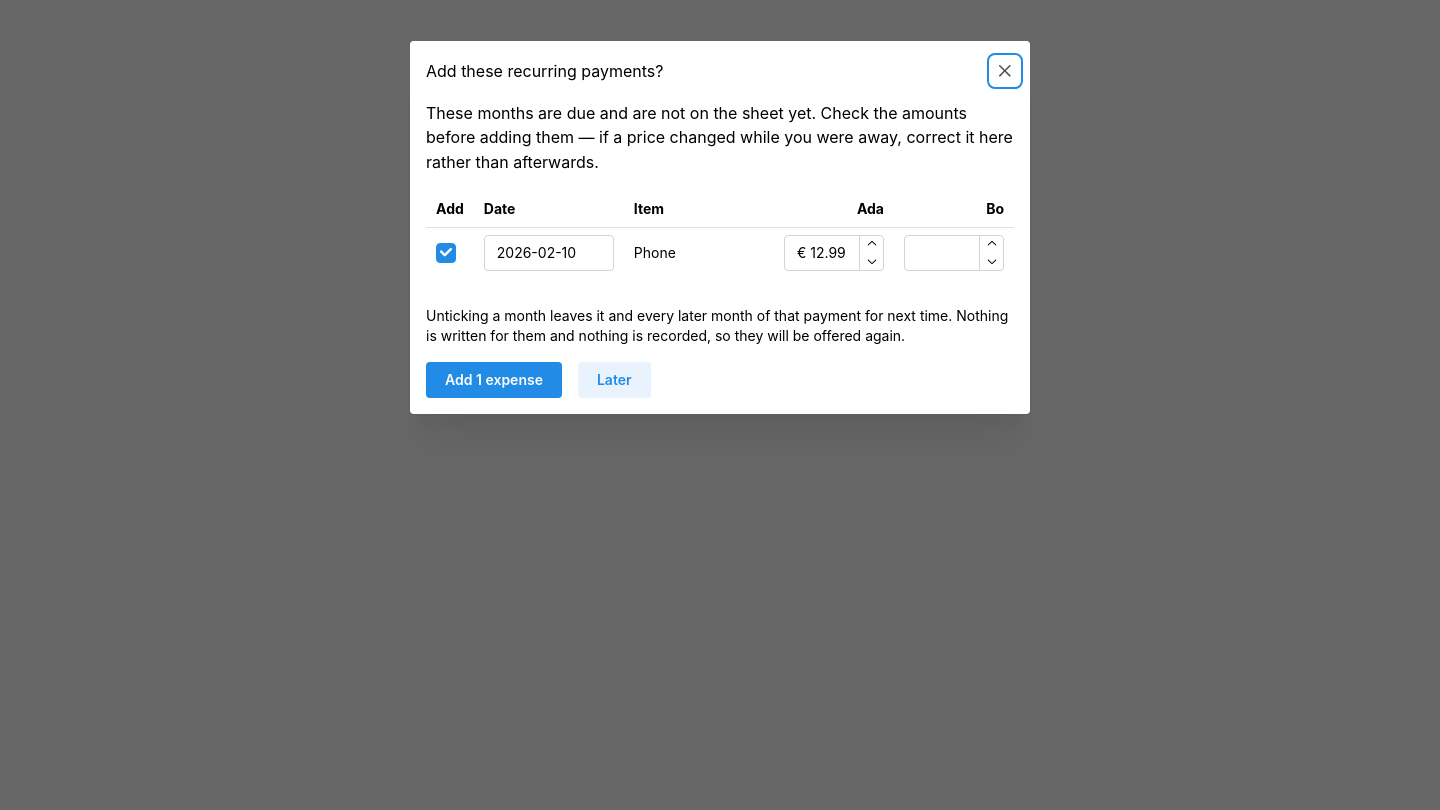
Test: RecurringPrompt › shows a failed write rather than closing as though it had worked
Click the button "Add 1 expense".
click(494, 380)  # box [426, 362, 562, 398]
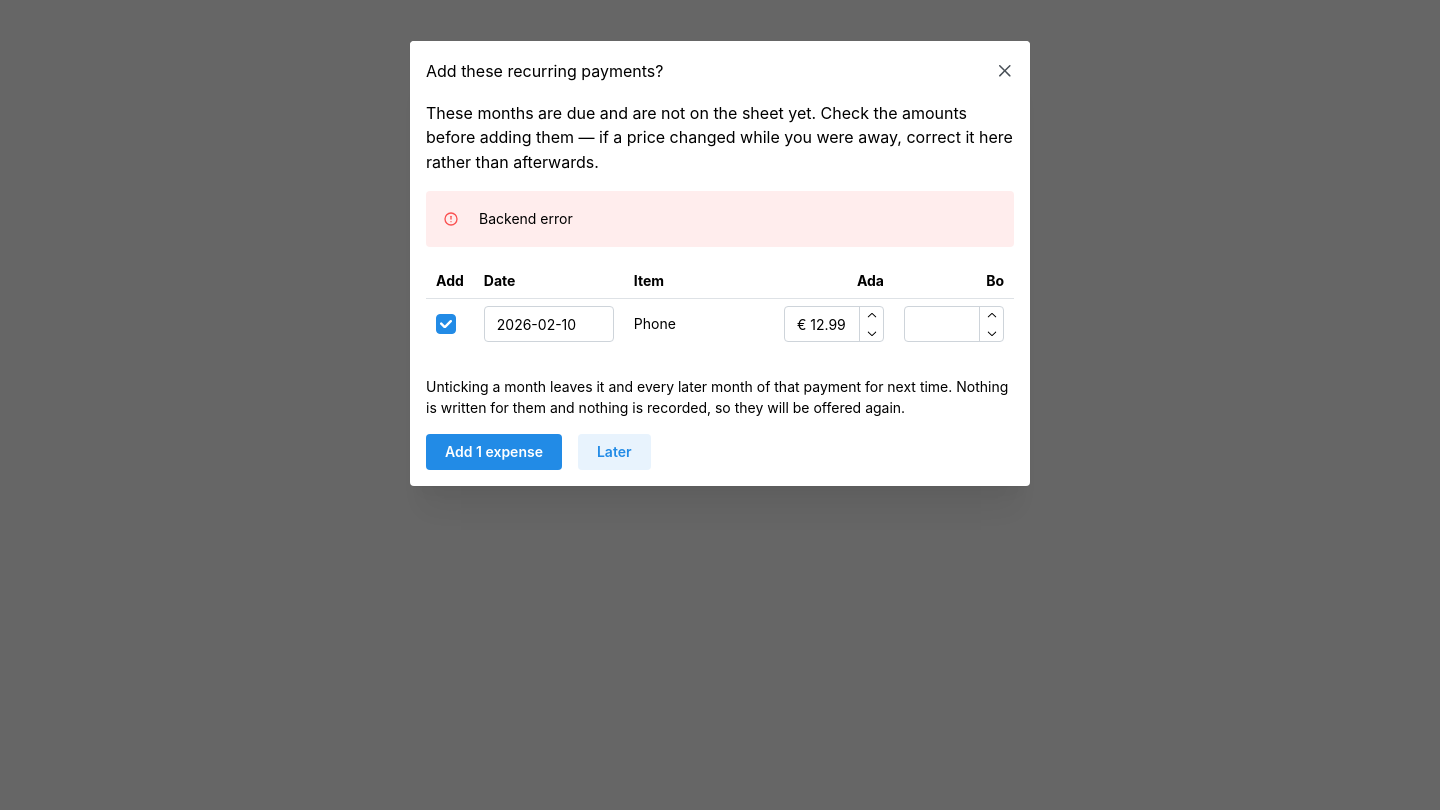
expect the text "Backend error" is shown: met, box [479, 210, 573, 227]
